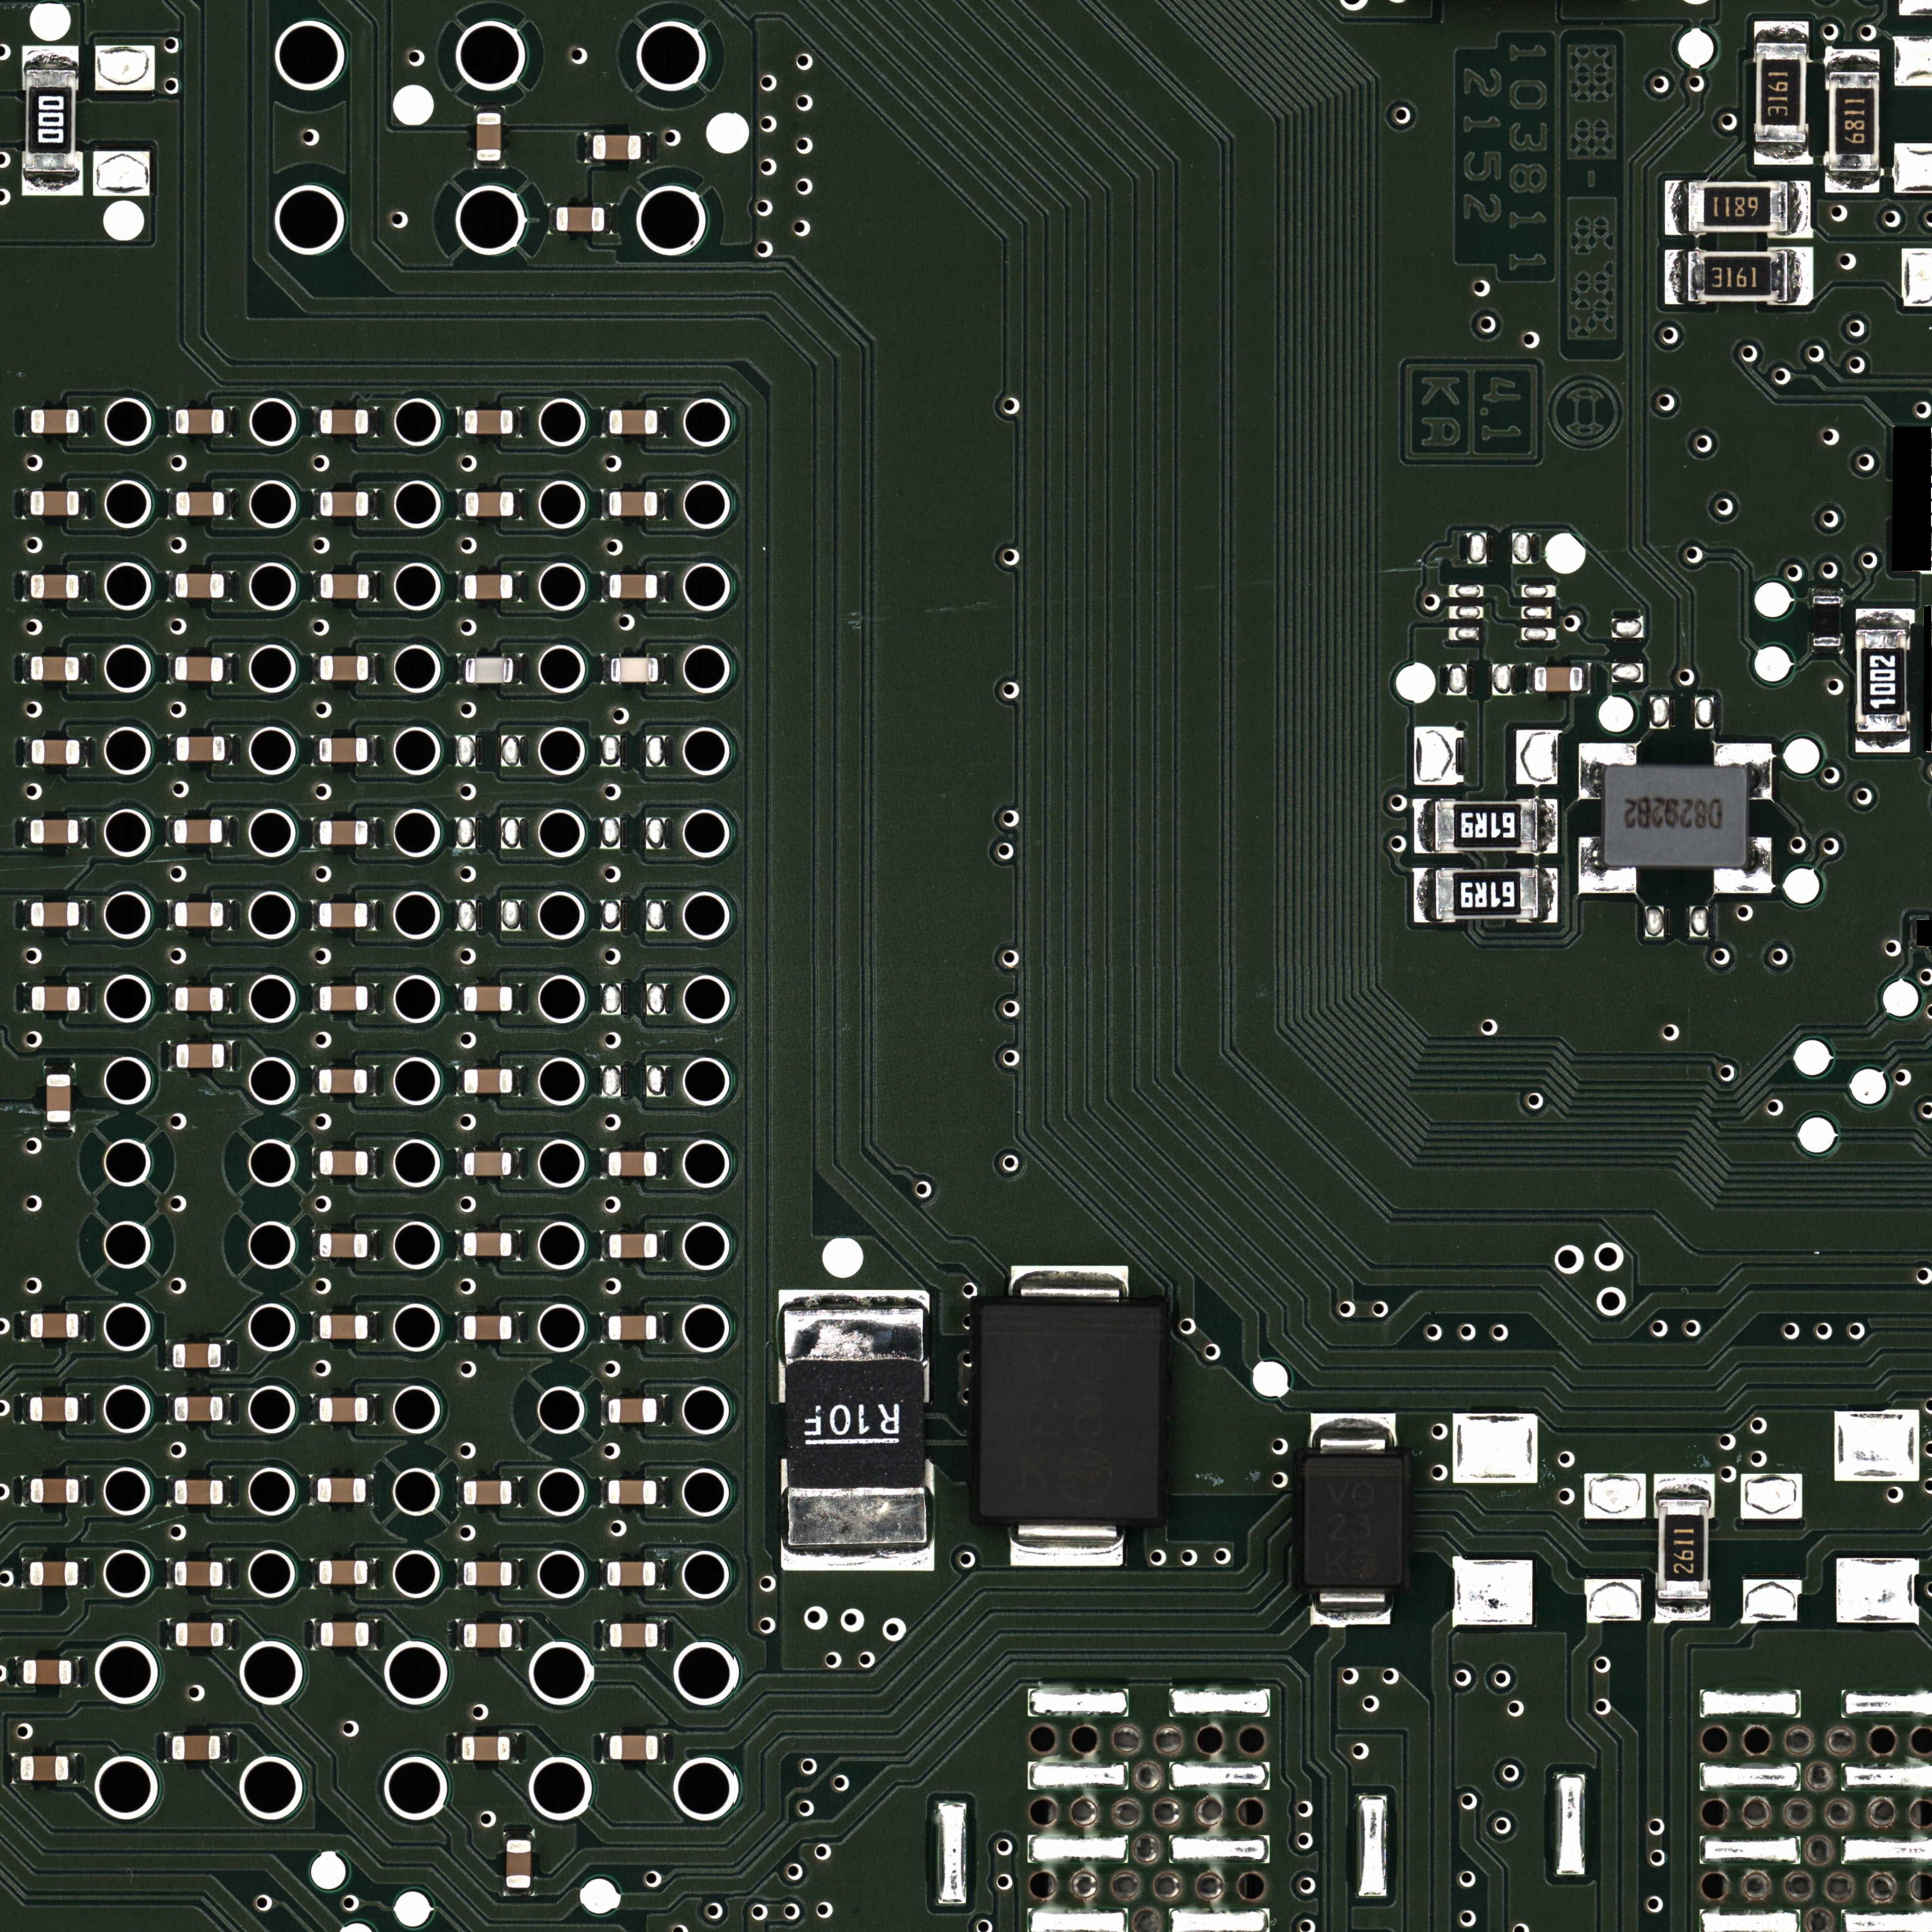Package: (980, 1306, 1161, 1520), (786, 1307, 925, 1546), (1601, 764, 1748, 867), (1302, 1458, 1405, 1585), (25, 71, 78, 172), (1856, 630, 1907, 732), (1437, 869, 1537, 920), (1658, 1500, 1709, 1599), (1437, 801, 1537, 851), (1688, 182, 1787, 232), (1829, 73, 1879, 172), (1688, 251, 1785, 301), (1757, 44, 1806, 142), (320, 573, 370, 600), (609, 409, 658, 435), (30, 490, 80, 517), (609, 573, 658, 600), (30, 573, 80, 600), (464, 985, 513, 1012), (1813, 596, 1840, 646), (320, 409, 368, 435), (177, 409, 225, 435), (610, 656, 658, 683), (32, 985, 80, 1012), (320, 985, 368, 1012), (593, 134, 640, 161), (464, 1622, 511, 1649), (464, 1315, 511, 1341), (21, 1755, 69, 1782), (175, 1479, 223, 1506), (318, 1477, 366, 1504), (607, 1560, 655, 1587), (30, 1560, 78, 1587), (609, 1479, 656, 1506), (609, 1315, 656, 1341), (30, 1313, 78, 1339), (175, 1560, 223, 1587), (173, 1343, 221, 1369), (175, 1396, 223, 1422), (30, 1396, 78, 1422), (609, 1398, 656, 1424), (318, 902, 368, 927), (318, 738, 368, 763), (556, 207, 605, 232), (173, 819, 223, 844), (175, 573, 225, 598), (30, 902, 80, 927), (30, 656, 80, 681), (609, 492, 658, 517), (464, 1069, 513, 1093), (23, 1660, 73, 1684), (609, 1736, 658, 1760), (609, 1233, 658, 1258), (30, 1479, 80, 1504), (320, 656, 368, 681), (320, 492, 368, 517), (177, 736, 225, 761), (177, 492, 225, 517), (320, 821, 368, 846), (175, 902, 223, 927), (175, 656, 223, 681), (465, 410, 513, 435), (465, 658, 513, 683), (476, 113, 501, 161), (465, 492, 513, 517), (175, 987, 223, 1012), (465, 575, 513, 600), (32, 409, 80, 433), (32, 740, 80, 764), (30, 819, 78, 844), (464, 1481, 511, 1506), (320, 1622, 368, 1647), (320, 1315, 368, 1339), (318, 1069, 366, 1093), (506, 1840, 531, 1888), (320, 1233, 368, 1258), (177, 1044, 225, 1069), (320, 1560, 368, 1585), (175, 1622, 223, 1647), (46, 1074, 71, 1122), (464, 1562, 511, 1587), (462, 1736, 510, 1760), (172, 1736, 219, 1760), (464, 1231, 511, 1256), (320, 1150, 368, 1175), (610, 1622, 658, 1647), (320, 1398, 368, 1422), (464, 1152, 511, 1177), (609, 1152, 656, 1177), (1534, 667, 1582, 692)
Solder: (1010, 1522, 1123, 1566), (1008, 1267, 1129, 1304), (782, 1546, 934, 1571), (1311, 1414, 1396, 1456), (1714, 743, 1773, 800), (1578, 743, 1637, 800), (1714, 837, 1771, 893), (1578, 837, 1637, 892), (1311, 1587, 1391, 1626), (777, 1290, 929, 1307), (1654, 1474, 1713, 1497), (1789, 248, 1812, 304), (1656, 1599, 1711, 1622), (23, 173, 81, 195), (1826, 48, 1879, 71), (1789, 180, 1810, 237), (1755, 143, 1812, 165), (23, 46, 78, 67), (1665, 249, 1686, 304), (1856, 609, 1914, 628), (1414, 869, 1433, 924), (1667, 180, 1686, 235), (1826, 173, 1881, 193), (1856, 734, 1911, 754), (1755, 21, 1808, 41), (1539, 800, 1557, 855), (1415, 800, 1433, 853), (1539, 869, 1557, 922), (221, 1339, 232, 1371), (223, 1392, 234, 1424), (310, 1619, 320, 1651), (78, 1557, 88, 1589), (370, 1619, 380, 1651), (223, 1557, 234, 1589), (502, 1829, 534, 1840), (511, 1732, 522, 1764), (513, 1619, 524, 1651), (19, 1394, 30, 1424), (19, 1311, 30, 1341), (223, 984, 234, 1014), (451, 1732, 462, 1762), (165, 1559, 175, 1589), (69, 1753, 80, 1783), (19, 1476, 30, 1506), (640, 133, 651, 163), (42, 1123, 76, 1132), (42, 1065, 76, 1074), (474, 161, 506, 170), (80, 405, 88, 437), (21, 899, 30, 931), (223, 653, 232, 685), (368, 653, 377, 685), (225, 570, 234, 602), (80, 736, 88, 768), (166, 1040, 175, 1072), (225, 1040, 234, 1072), (368, 1146, 377, 1178), (368, 982, 377, 1014), (368, 1065, 377, 1097), (368, 1311, 377, 1343), (166, 1619, 175, 1651), (225, 1619, 234, 1651), (163, 1732, 172, 1764), (73, 1656, 81, 1688), (223, 1476, 232, 1507), (14, 1656, 23, 1688), (368, 1557, 377, 1589), (455, 1619, 464, 1651), (584, 131, 593, 163), (658, 488, 667, 520), (600, 1230, 609, 1261), (600, 1619, 609, 1651), (658, 1619, 667, 1651), (600, 1732, 609, 1764), (502, 1888, 534, 1897), (656, 1559, 665, 1591), (658, 1732, 667, 1764), (166, 407, 175, 437), (21, 407, 30, 437), (311, 407, 320, 437), (225, 407, 234, 437), (456, 407, 465, 437), (225, 734, 234, 764), (80, 901, 88, 931), (368, 817, 377, 847), (80, 817, 88, 847), (368, 736, 377, 766), (368, 901, 377, 931), (21, 653, 30, 683), (21, 817, 30, 847), (165, 816, 173, 846), (21, 571, 30, 602), (370, 571, 379, 602), (166, 571, 175, 602), (225, 488, 234, 518), (311, 571, 320, 602), (311, 653, 320, 683), (80, 1311, 88, 1341), (310, 1065, 318, 1095), (166, 984, 175, 1014), (368, 1394, 377, 1424), (311, 984, 320, 1014), (23, 982, 32, 1012), (78, 1394, 87, 1424), (455, 1148, 464, 1178), (455, 1313, 464, 1343), (455, 1230, 464, 1260), (368, 1230, 377, 1260), (221, 1732, 230, 1762), (166, 1476, 175, 1506), (310, 1559, 318, 1589), (11, 1753, 19, 1783), (80, 1476, 88, 1506), (455, 1559, 464, 1589), (547, 203, 556, 234), (513, 407, 522, 437), (658, 407, 667, 437), (605, 203, 614, 234), (658, 571, 667, 602), (600, 1313, 609, 1343), (600, 1148, 609, 1178), (600, 1396, 609, 1426), (511, 1148, 520, 1178), (511, 1230, 520, 1260), (656, 1148, 665, 1178), (656, 1477, 665, 1507), (600, 1477, 609, 1507), (513, 1559, 522, 1589), (166, 901, 175, 929), (455, 1067, 464, 1095), (165, 1339, 172, 1371), (311, 1146, 318, 1178), (21, 1557, 28, 1589), (513, 1311, 520, 1343), (513, 1476, 520, 1507), (1909, 916, 1916, 948), (474, 104, 504, 111), (370, 407, 377, 437), (166, 653, 173, 683), (458, 655, 465, 685), (370, 488, 377, 518), (23, 488, 30, 518), (168, 734, 175, 764), (23, 736, 30, 766), (80, 488, 87, 518), (311, 817, 318, 847), (80, 653, 87, 683), (223, 816, 230, 846), (168, 488, 175, 518), (80, 571, 87, 602), (456, 571, 464, 602), (311, 1311, 318, 1341), (311, 1230, 318, 1260), (166, 1394, 173, 1424), (311, 1394, 318, 1424), (366, 1476, 373, 1506), (456, 1477, 464, 1507), (310, 1476, 317, 1506), (602, 407, 609, 437), (603, 655, 610, 685), (658, 655, 665, 685), (513, 655, 520, 685), (602, 571, 609, 602), (513, 571, 520, 602), (658, 1313, 665, 1343), (658, 1230, 665, 1260), (513, 984, 520, 1014), (513, 1065, 520, 1095), (658, 1394, 665, 1424), (600, 1559, 607, 1589), (1527, 663, 1534, 694), (1583, 663, 1591, 694), (1812, 648, 1842, 655), (225, 901, 232, 929), (311, 901, 318, 929), (458, 490, 465, 518), (313, 490, 320, 518), (311, 736, 318, 764), (602, 490, 609, 518), (456, 985, 464, 1012), (515, 488, 520, 518), (1812, 589, 1842, 594), (81, 984, 87, 1012)
